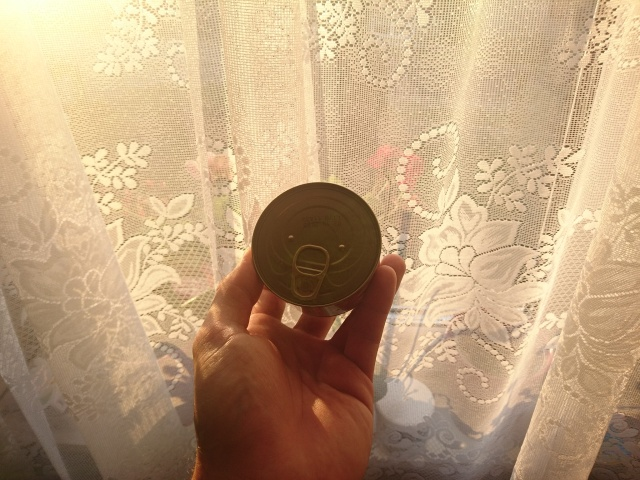Podravka Luncheon Meat 150g: (247, 179, 385, 320)
